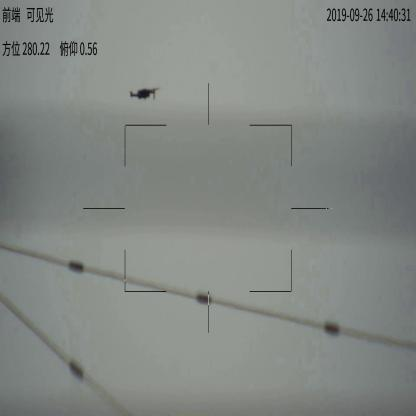uav: (127, 85, 162, 102)
